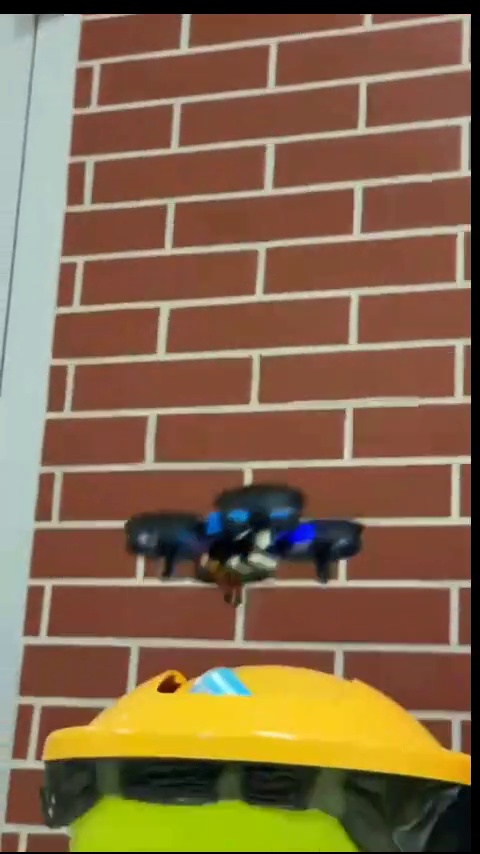drone: (127, 483, 360, 607)
